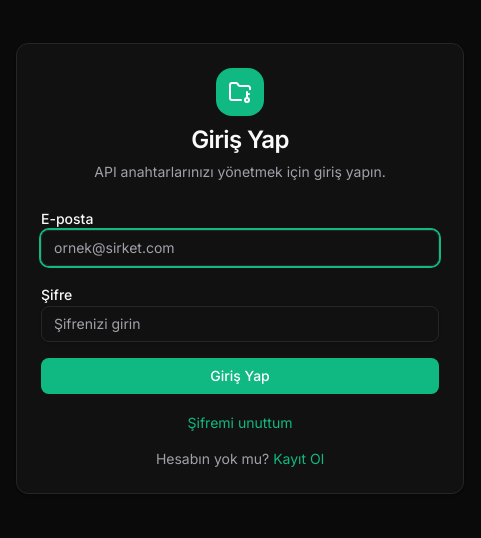
Test: LoginPage › yanlis kimlik bilgisi hata mesaji gosterir
The width and height of the screenshot is (481, 538).
Type "admin@test.com" into the field with placeholder "ornek@sirket.com" at (240, 248), box [41,230,439,266]
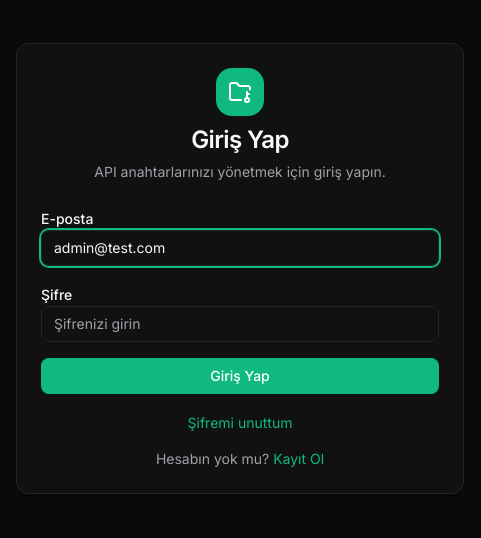
Type "yanlis" into the password field with placeholder "Şifrenizi girin" at (240, 324), box [41,306,439,342]
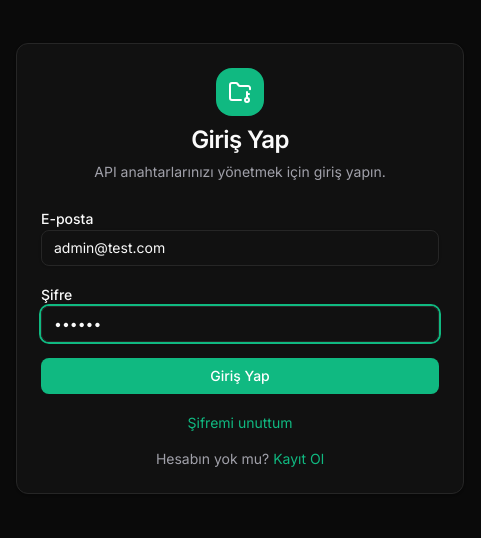
Click the button "Giriş Yap" at (240, 376), box [41,358,439,394]
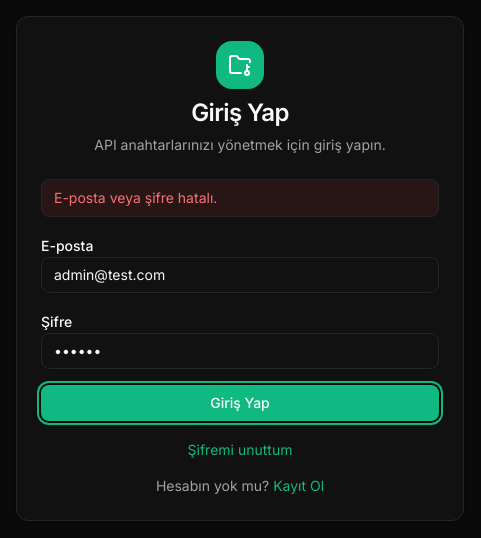
expect the text "E-posta veya şifre hatalı." is shown: met, box [41,178,439,216]
